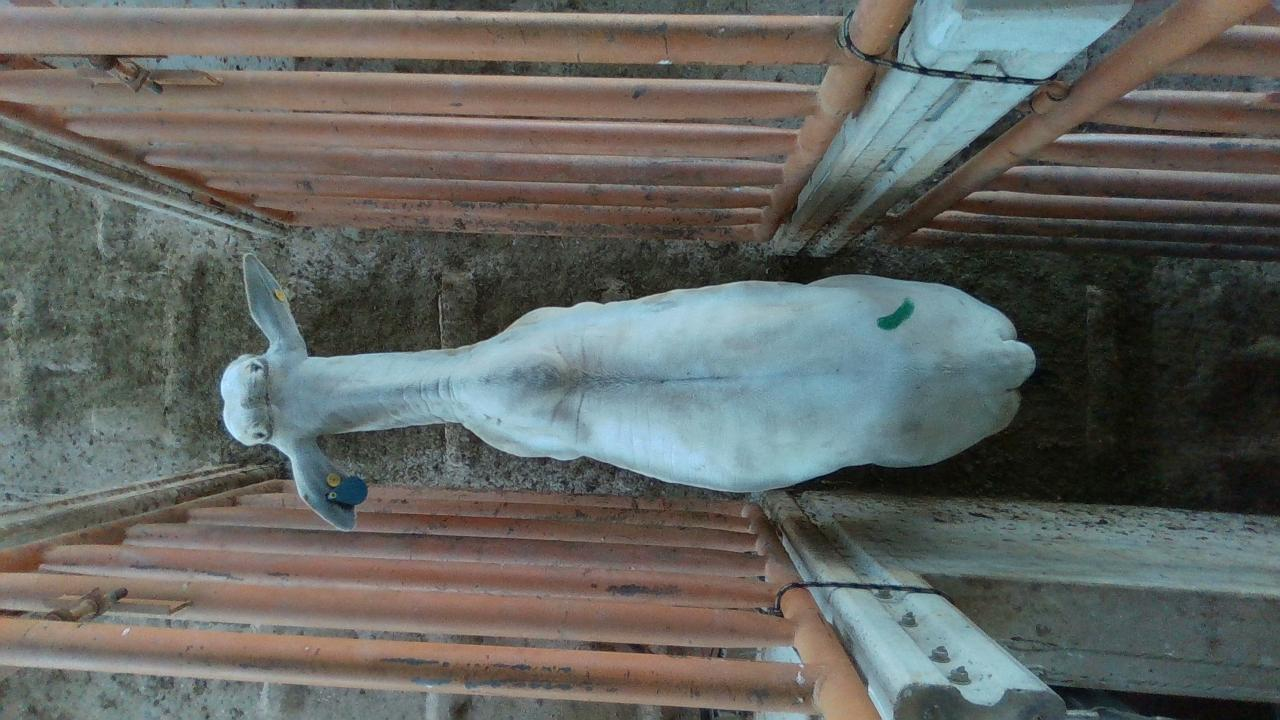cattle: (218, 251, 1037, 531)
